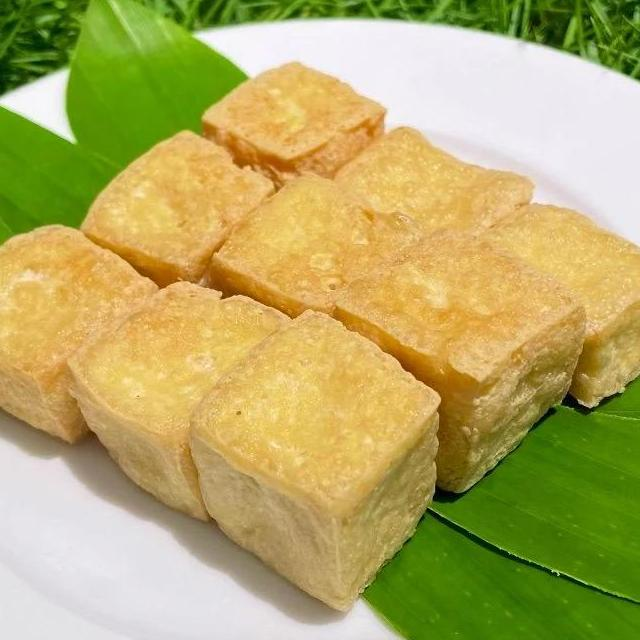dau hu: (176, 302, 443, 620), (318, 220, 590, 502), (59, 272, 300, 532), (197, 164, 440, 328), (0, 217, 165, 451), (469, 197, 640, 415), (74, 124, 284, 298), (322, 120, 539, 258), (195, 52, 391, 202)
